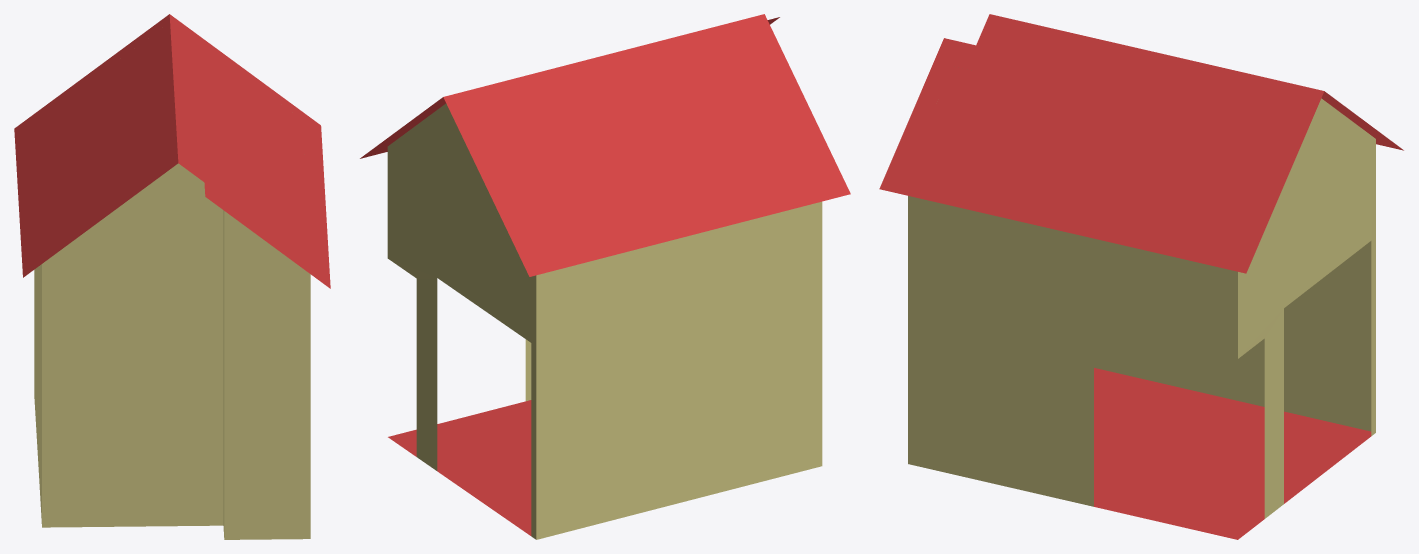
The picture shows the model from 3 angles, left to right: view 1: azimuth 30°, elevation 25°; view 2: azimuth 150°, elevation 25°; view 3: azimuth 270°, elevation 25°; orthographic projection. The views are drawn at different scales.
Parts seen in each view (by area): view 1: group_5, group_3, group_4; view 2: group_5, group_3, group_6, group_4; view 3: group_5, group_3, group_6, group_4.
Part boxes in pixels (x1=…): group_5: x1=34, y1=163, x2=310, y2=539; group_3: x1=14, y1=14, x2=310, y2=277; group_4: x1=85, y1=14, x2=330, y2=288; group_5: x1=387, y1=103, x2=822, y2=539; group_3: x1=360, y1=14, x2=850, y2=276; group_6: x1=388, y1=400, x2=531, y2=535; group_4: x1=417, y1=92, x2=508, y2=191; group_5: x1=908, y1=98, x2=1375, y2=518; group_3: x1=908, y1=18, x2=1350, y2=259; group_6: x1=1094, y1=368, x2=1371, y2=539; group_4: x1=879, y1=14, x2=1403, y2=273.
Bounding box in the file's own units: 16.88 × 18.74 × 15.76.
